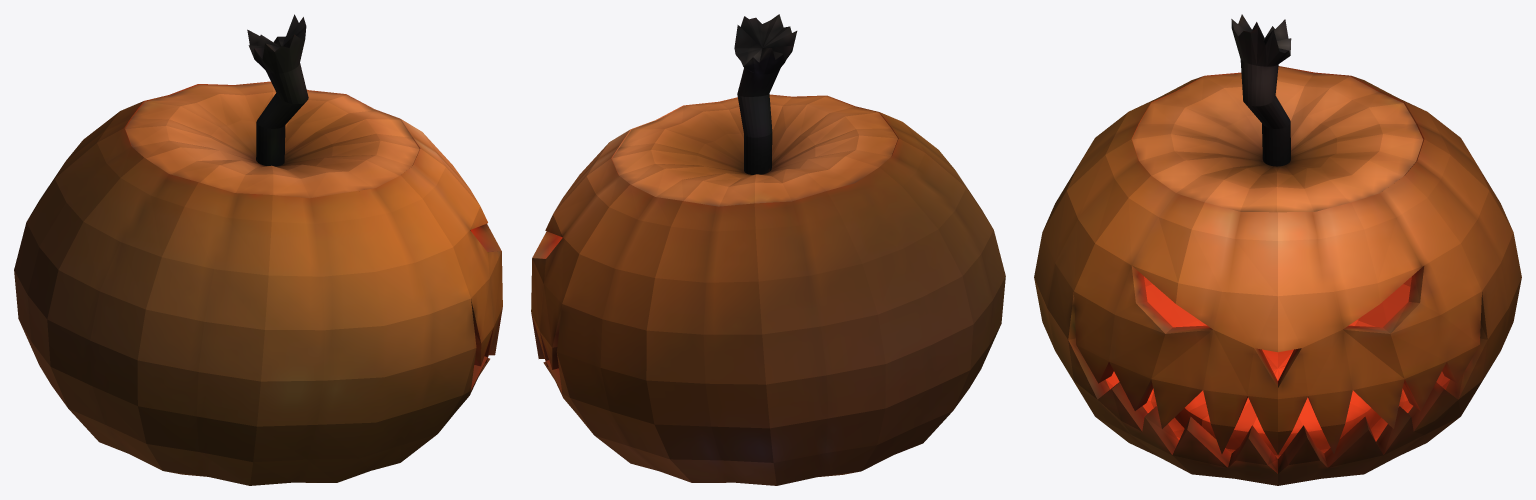
The model's file is PUMPKIN HEAD SCARY.fbx.
3 renders of one model, left to right at view 1: azimuth 30°, elevation 25°; view 2: azimuth 150°, elevation 25°; view 3: azimuth 270°, elevation 25°, orthographic. The views are drawn at different scales.
Parts seen in each view (by area): view 1: PumpkinheadScary, PumpkinheadScaryCap; view 2: PumpkinheadScary, PumpkinheadScaryCap; view 3: PumpkinheadScary, PumpkinheadScaryCap.
Part boxes in pixels (left/top/right/bottom): PumpkinheadScary: left=14, top=81, right=502, bottom=485; PumpkinheadScaryCap: left=125, top=14, right=419, bottom=198; PumpkinheadScary: left=531, top=94, right=1005, bottom=485; PumpkinheadScaryCap: left=612, top=14, right=897, bottom=206; PumpkinheadScary: left=1034, top=66, right=1521, bottom=485; PumpkinheadScaryCap: left=1132, top=14, right=1423, bottom=212.
Size of the model in its own units: 54.35 by 51.59 by 54.55.
